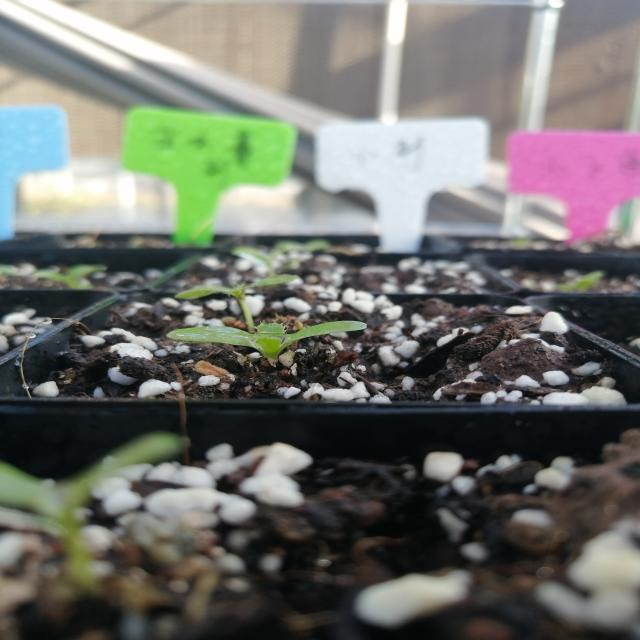field_thistle: (152, 312, 410, 372), (152, 265, 338, 326)
